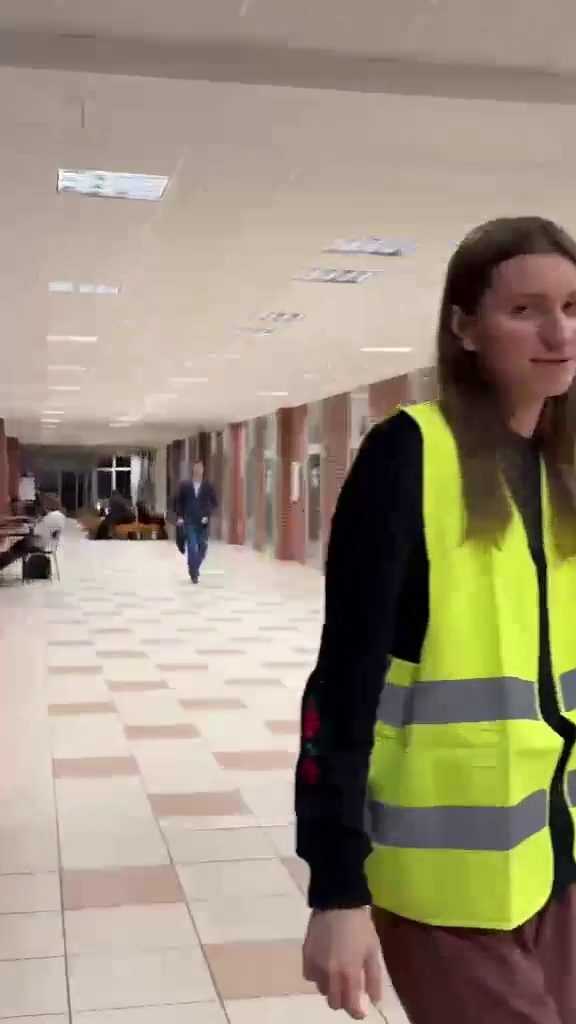no vest: (164, 452, 221, 576)
vest: (299, 209, 576, 1023)
